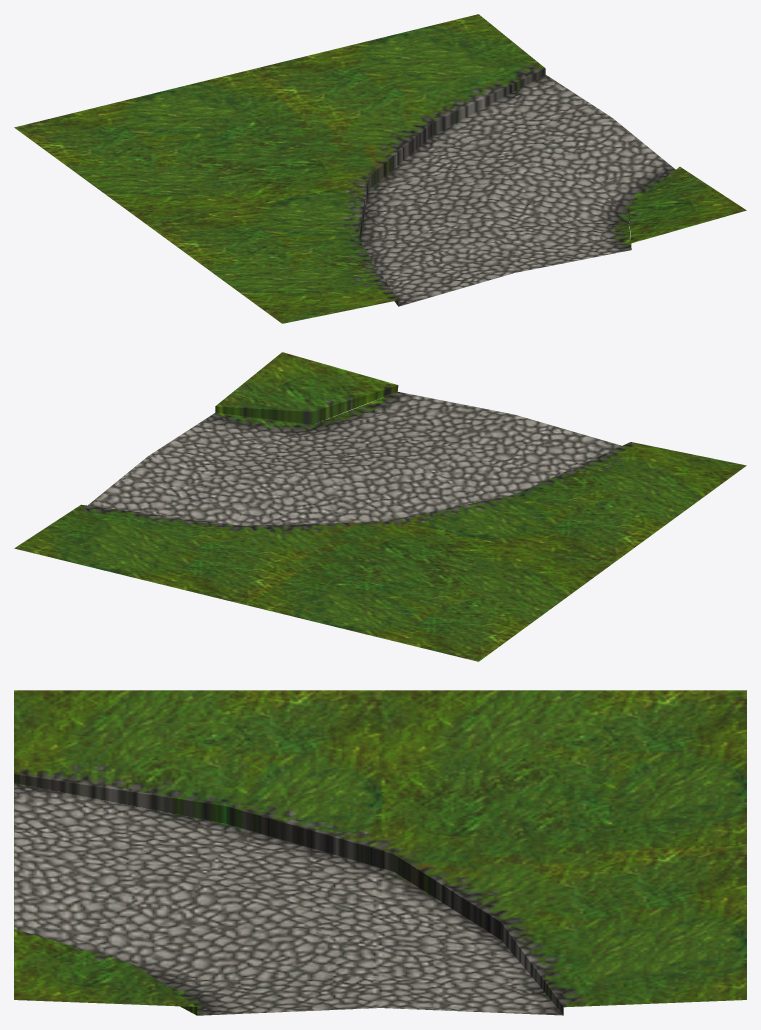
The model's file is badroad_Straße_Kurve2 [Grün]_2355.glb.
3 views of the same model, one above another, from view 1: azimuth 30°, elevation 25°; view 2: azimuth 150°, elevation 25°; view 3: azimuth 270°, elevation 25° (orthographic). The views are drawn at different scales.
Parts seen in each view (by area): view 1: street_curve_polySurfaceShape27; view 2: street_curve_polySurfaceShape27; view 3: street_curve_polySurfaceShape27.
Boxes of the visible parts, bbox=[...] form: street_curve_polySurfaceShape27: bbox=[14, 14, 746, 323]; street_curve_polySurfaceShape27: bbox=[14, 352, 746, 661]; street_curve_polySurfaceShape27: bbox=[14, 690, 746, 1015].
Bounding box in the file's own units: 2 × 0.0934 × 2.
Materials: 1 (1 with a texture image).
